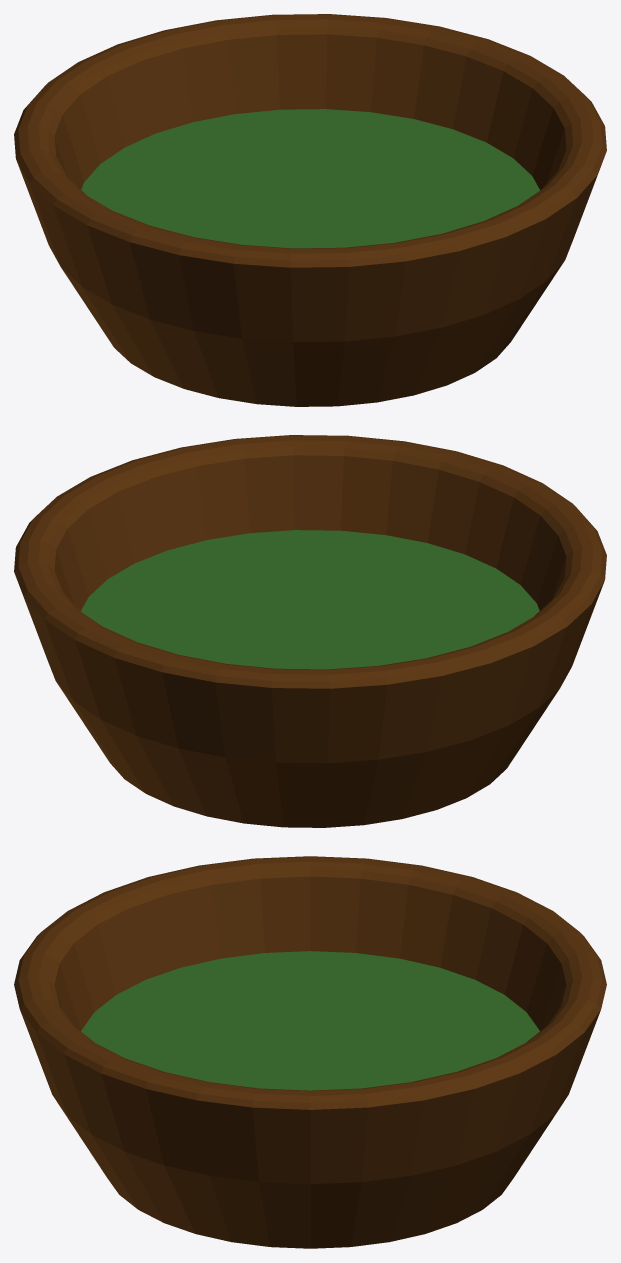
File: Bowl.fbx
3 views of the same model, one above another, from view 1: azimuth 30°, elevation 25°; view 2: azimuth 150°, elevation 25°; view 3: azimuth 270°, elevation 25° (orthographic).
Visible parts, largest first — view 1: Cylinder; view 2: Cylinder; view 3: Cylinder.
Boxes of the visible parts, x1,y1,x2,y2 form: Cylinder: [14, 14, 606, 406]; Cylinder: [14, 435, 606, 827]; Cylinder: [14, 856, 606, 1248].
Bounding box in the file's own units: 92.33 × 32.28 × 92.33.
